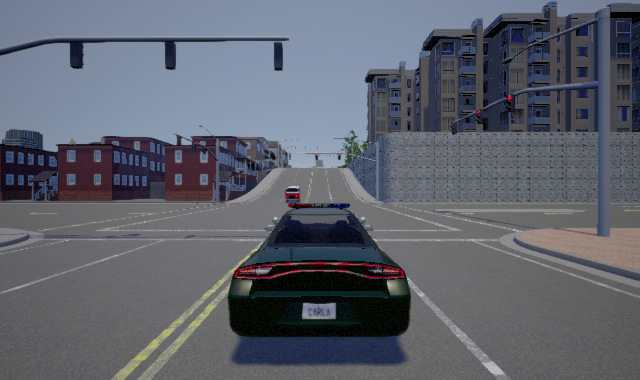traffic_light: (506, 94, 515, 112), (476, 109, 483, 124), (450, 122, 457, 134), (177, 135, 182, 146), (192, 141, 197, 150), (203, 146, 207, 154), (338, 153, 341, 160), (315, 153, 318, 160), (289, 153, 291, 160)
vehicle: (227, 203, 411, 337), (283, 184, 302, 206)
